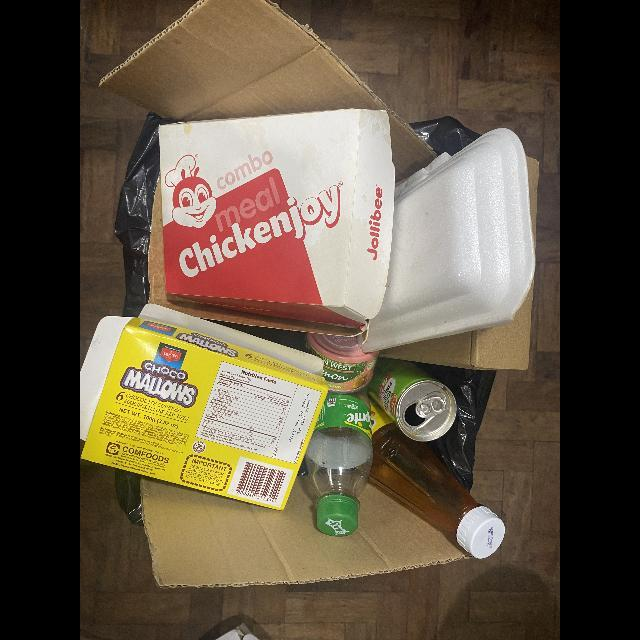glass: (369, 403, 505, 559)
metal: (367, 358, 457, 443), (306, 333, 380, 394)
paper: (148, 109, 396, 336), (80, 304, 329, 511), (139, 476, 467, 589), (98, 0, 389, 123), (379, 284, 534, 372)
plastic: (305, 394, 373, 537)
styrofoam: (361, 128, 535, 354)
